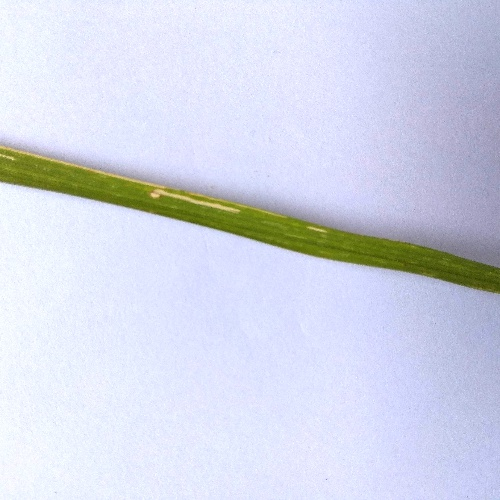Busuk Leher: (148, 186, 242, 216), (308, 216, 333, 237)
